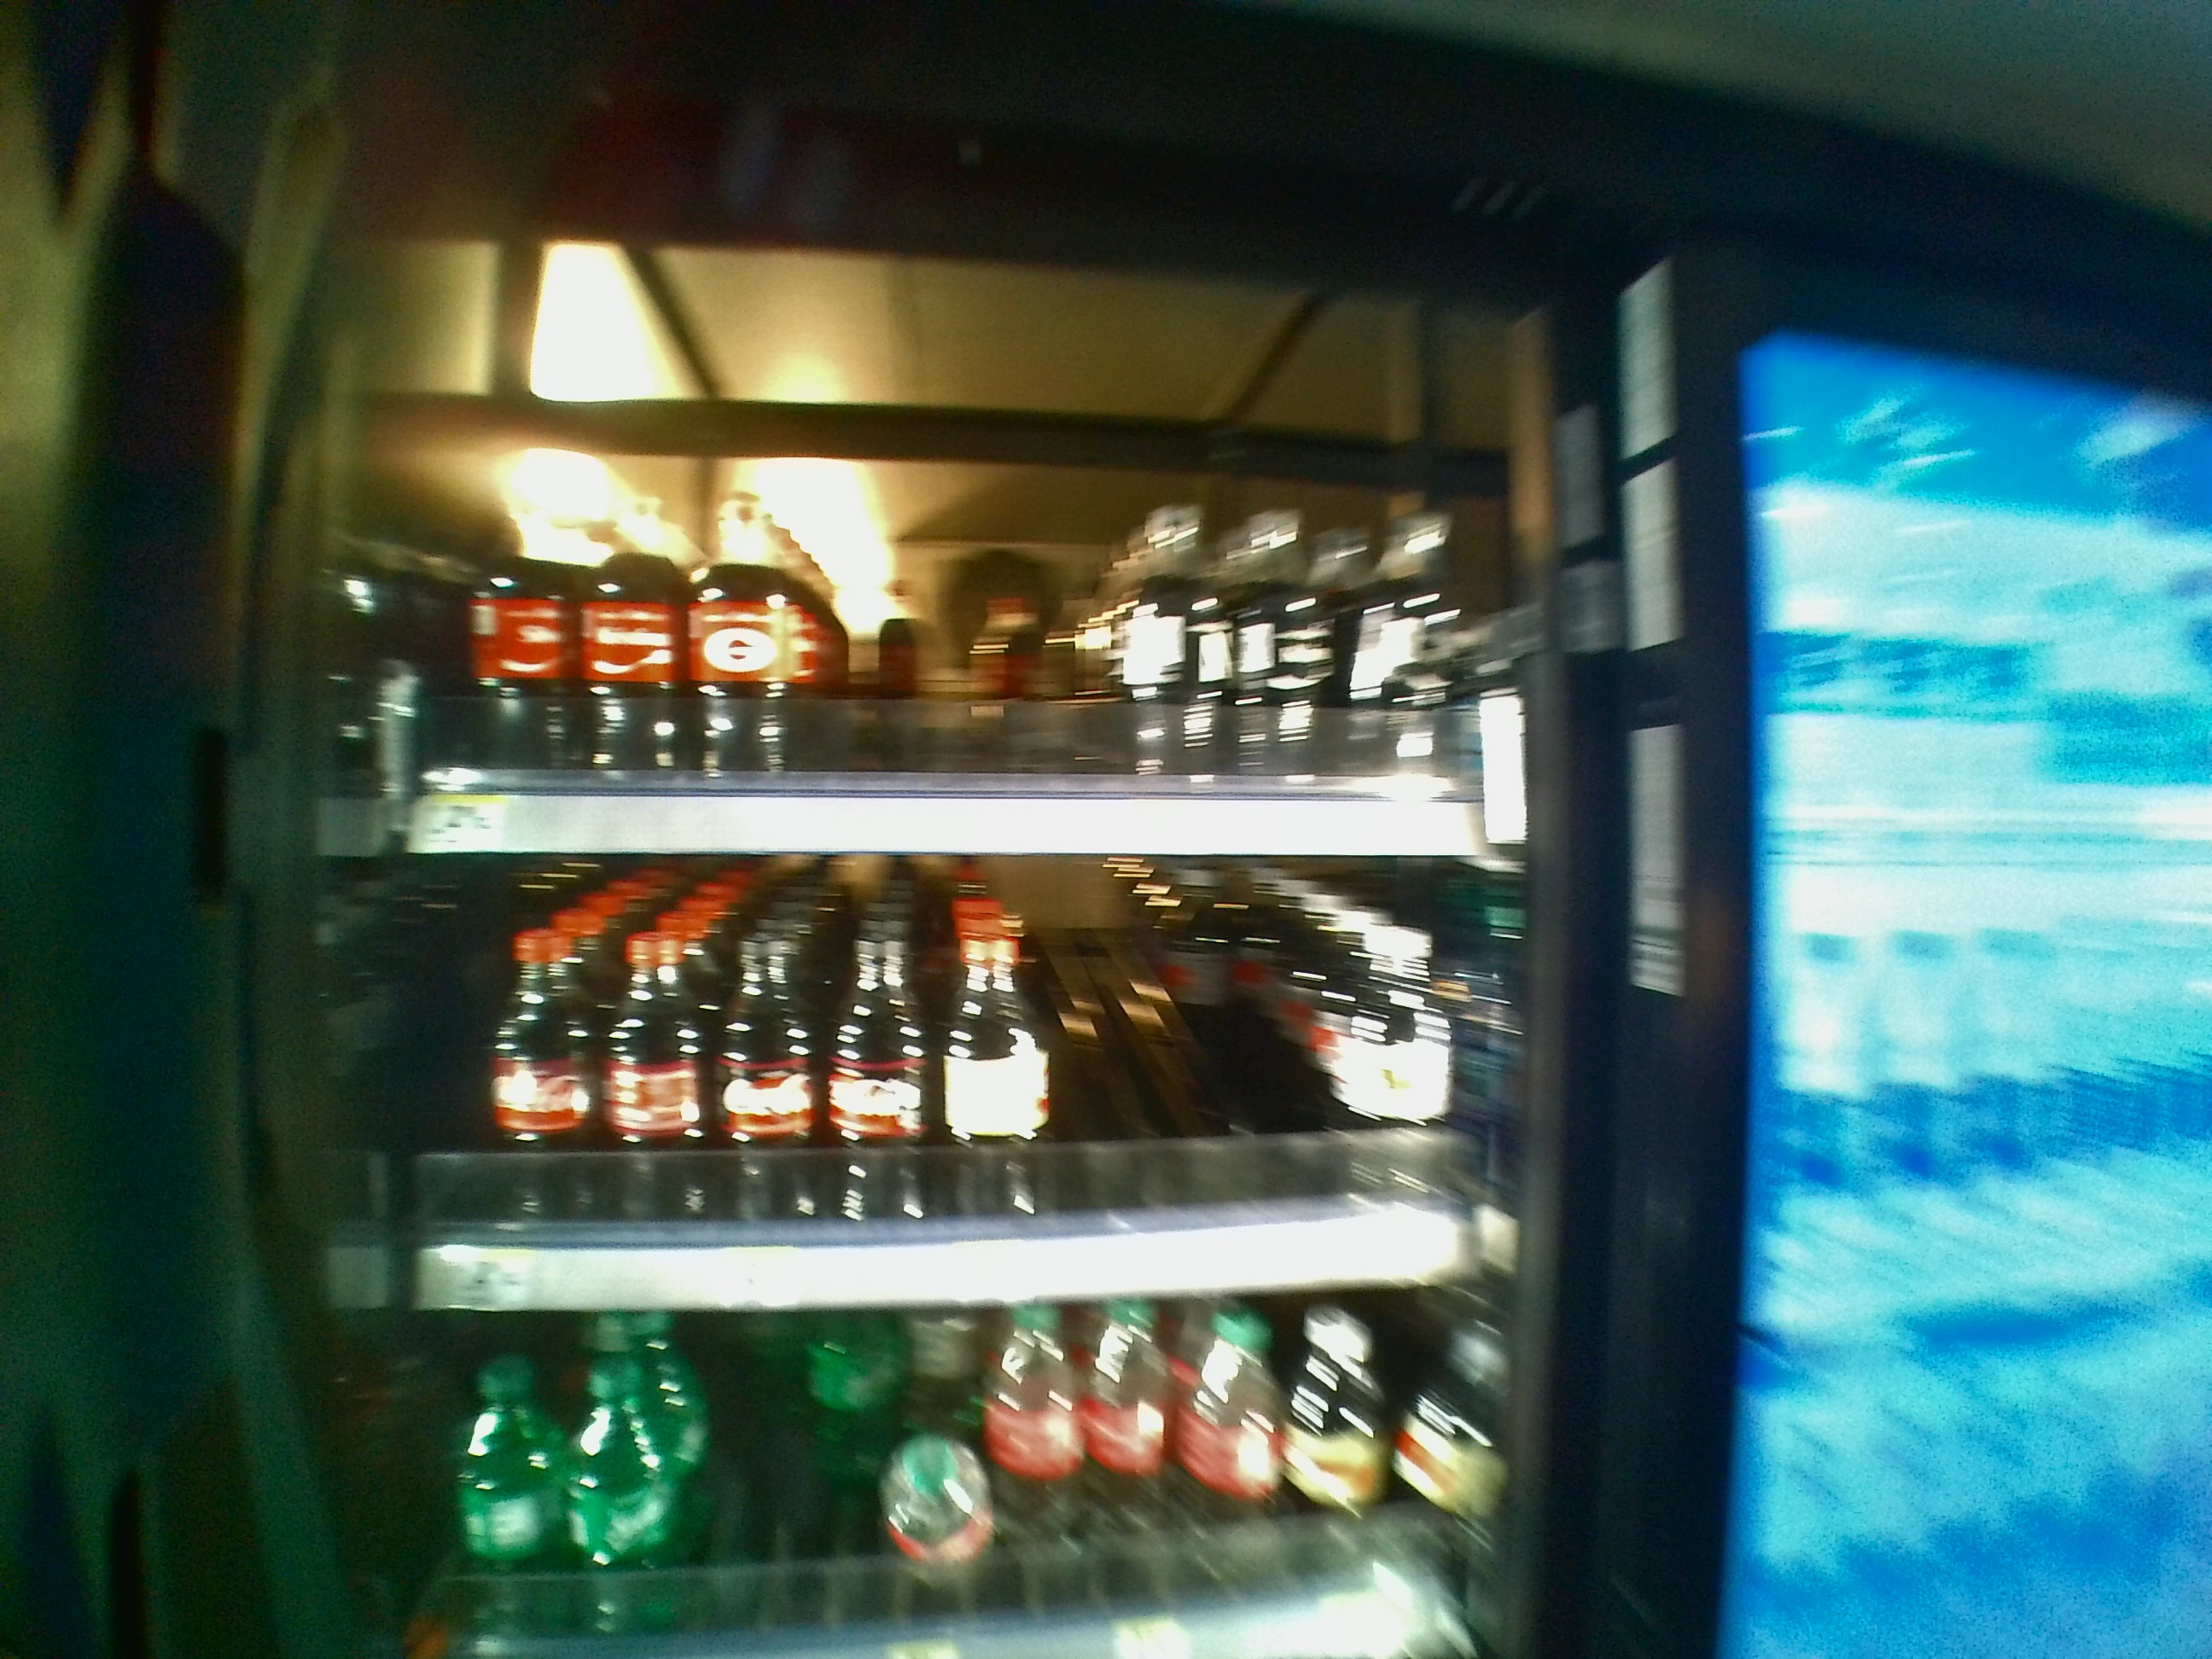Shelf: (359, 232, 1564, 857), (359, 859, 1564, 1309)
